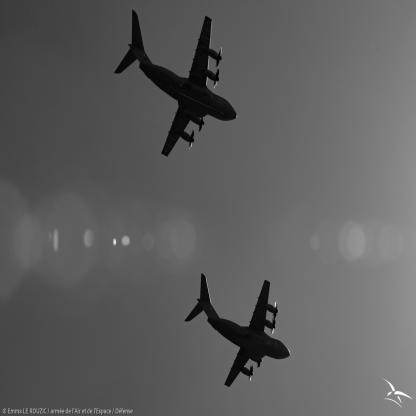A400M: (115, 10, 238, 158), (185, 274, 292, 388)
